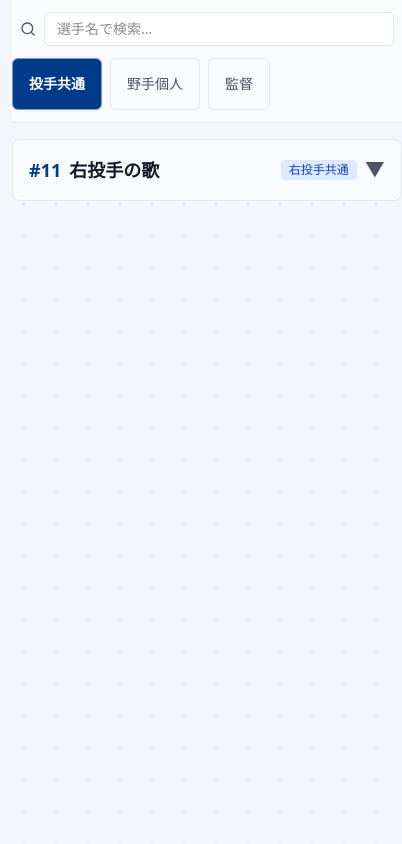
Test case: CheerSongViewer › 歌詞本文を表示する
Click the heading "#11右投手の歌" at (94, 170), box [29,156,159,184]
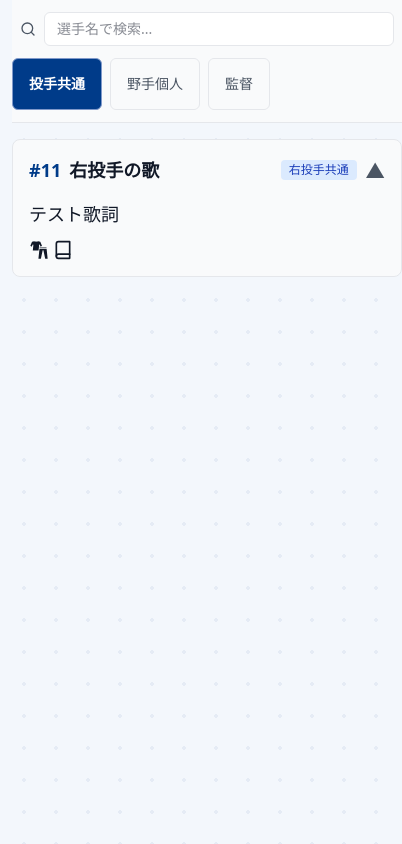
Expected: the text "テスト歌詞" is shown, [29,202,119,226]
